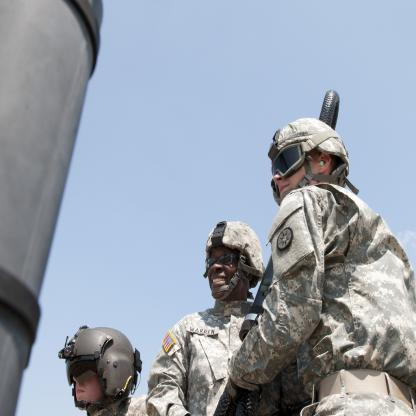Helmet: (57, 321, 144, 414), (275, 117, 353, 203), (203, 218, 267, 302)
